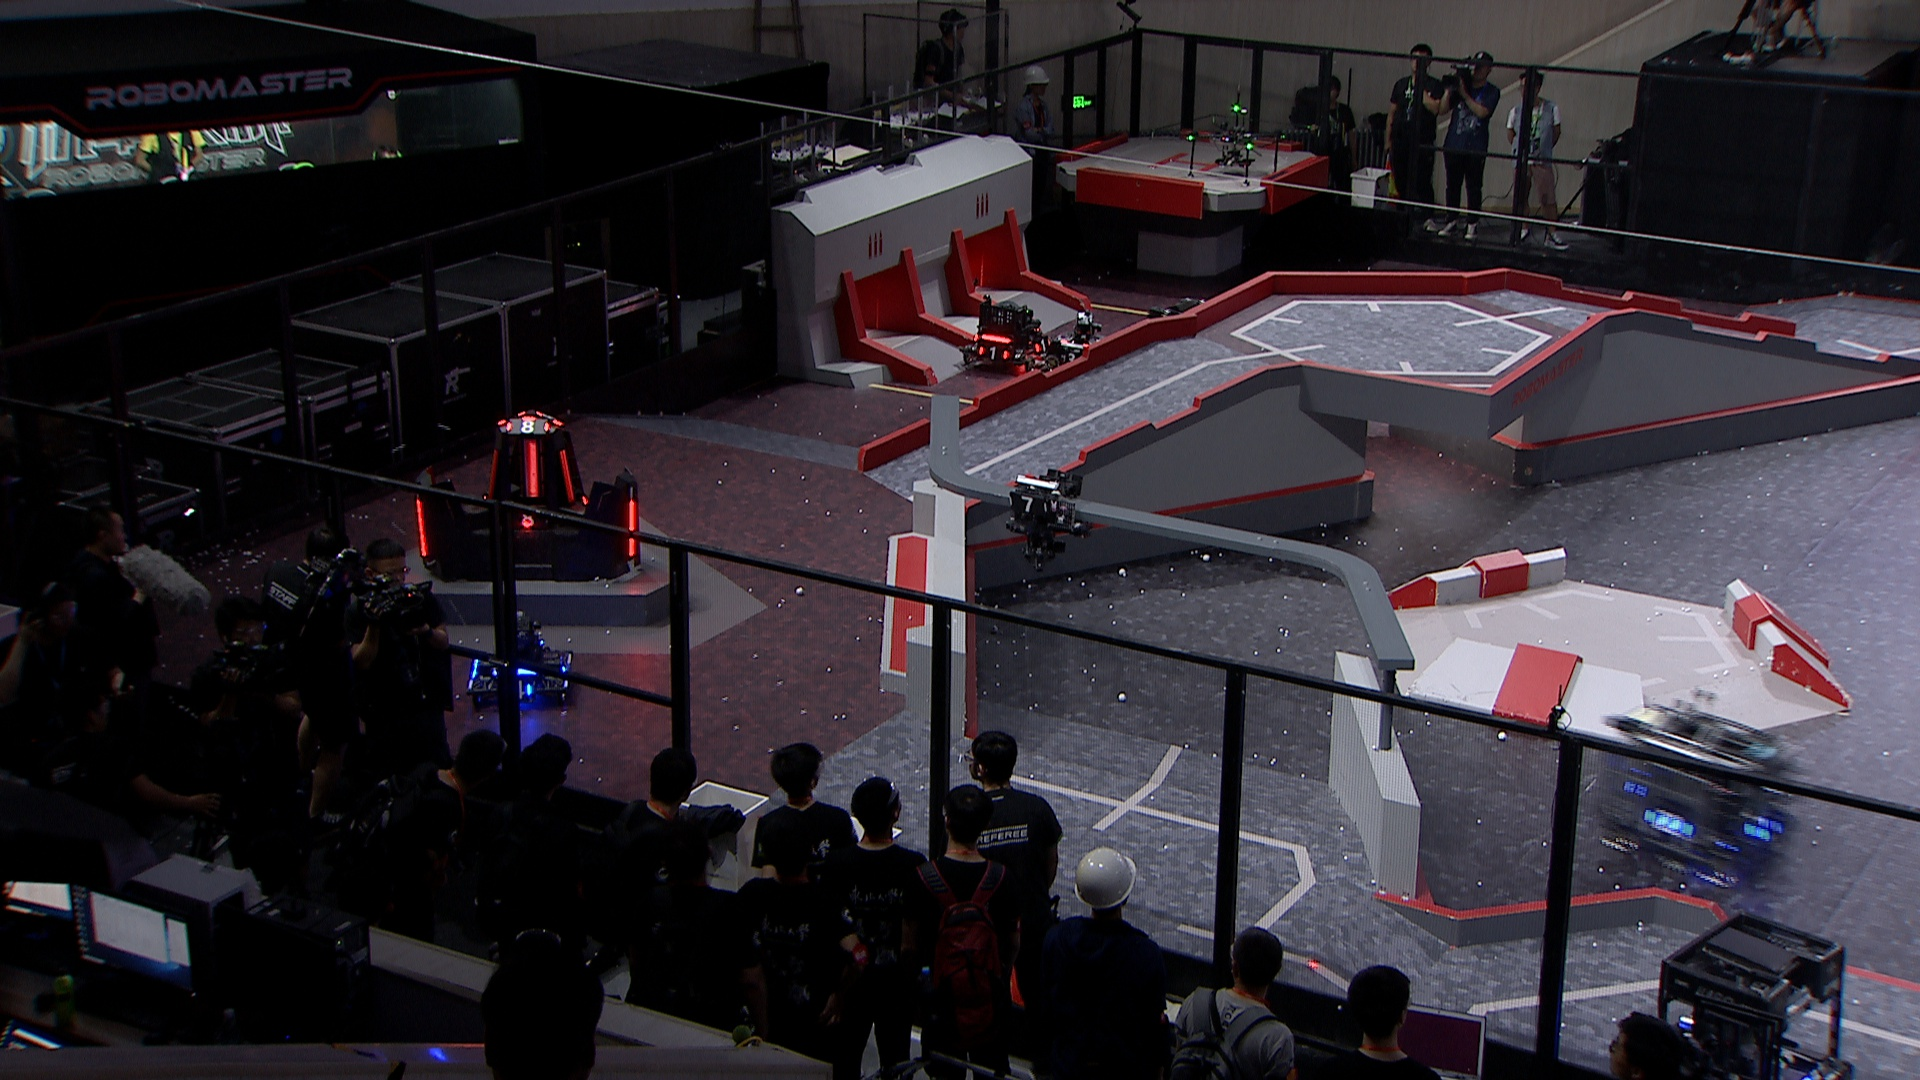armor: (1643, 804, 1698, 841), (520, 439, 542, 502), (1735, 811, 1785, 839), (411, 496, 433, 560), (624, 498, 641, 560), (481, 448, 500, 504), (558, 447, 575, 505), (1007, 493, 1048, 516), (502, 419, 553, 436), (512, 512, 553, 531), (975, 344, 1011, 363), (514, 678, 535, 703), (1033, 338, 1054, 353), (1060, 352, 1079, 368)
base: (409, 409, 642, 584)
car: (1598, 698, 1807, 891), (1650, 913, 1855, 1080), (465, 609, 579, 712), (957, 294, 1054, 376), (1043, 309, 1110, 372)
watcher: (1006, 467, 1091, 570)
